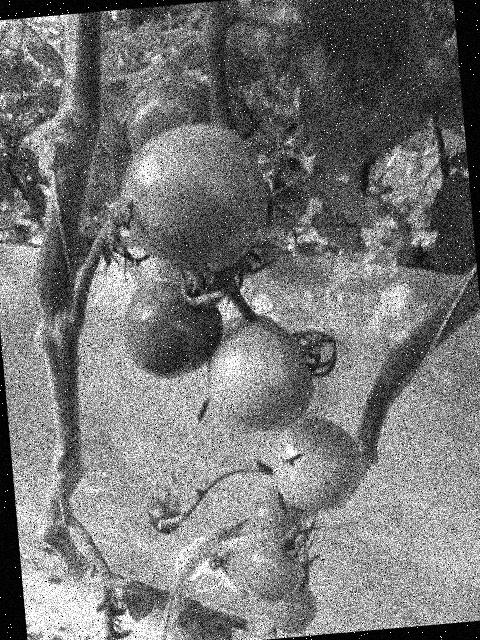l_fully_ripened: (119, 275, 228, 382), (147, 497, 183, 536)
l_green: (203, 309, 317, 435), (268, 414, 365, 515), (239, 528, 305, 603), (259, 582, 318, 636), (246, 486, 292, 536)
l_half_ripened: (114, 117, 272, 279), (123, 74, 214, 153)
